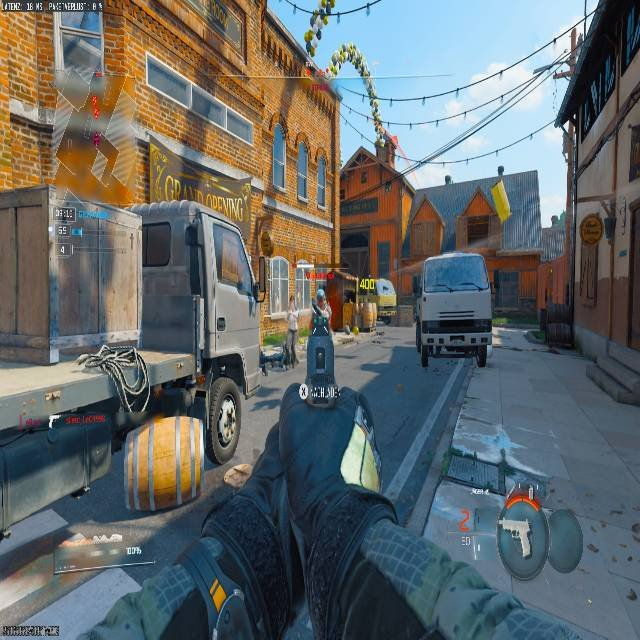head: (316, 288, 325, 303)
player: (313, 288, 332, 328)
